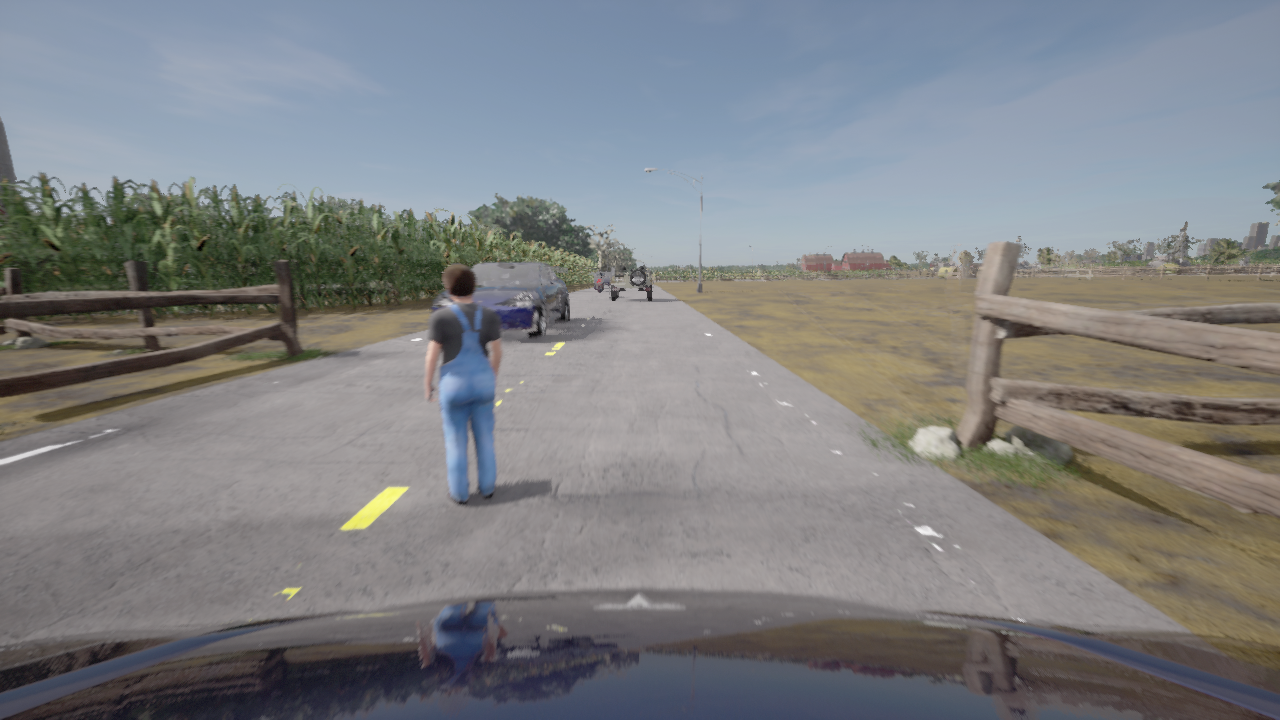cyclist: (0, 588, 1279, 719), (431, 261, 569, 338), (595, 271, 619, 288), (594, 274, 605, 291), (615, 271, 622, 285)
pedestrian: (426, 263, 502, 505)
